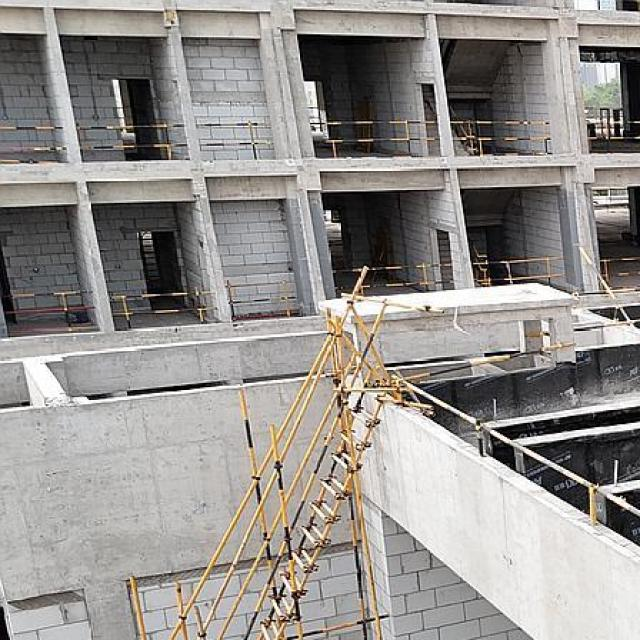edge_guardrail: (388, 340, 640, 526), (523, 246, 640, 337), (309, 116, 441, 158), (109, 286, 217, 330), (75, 122, 188, 162), (0, 289, 99, 334), (332, 261, 454, 296), (194, 118, 276, 162), (448, 120, 553, 154), (223, 279, 300, 321), (472, 254, 567, 287), (0, 125, 69, 165), (587, 119, 640, 152), (600, 257, 640, 290), (592, 188, 629, 202)
